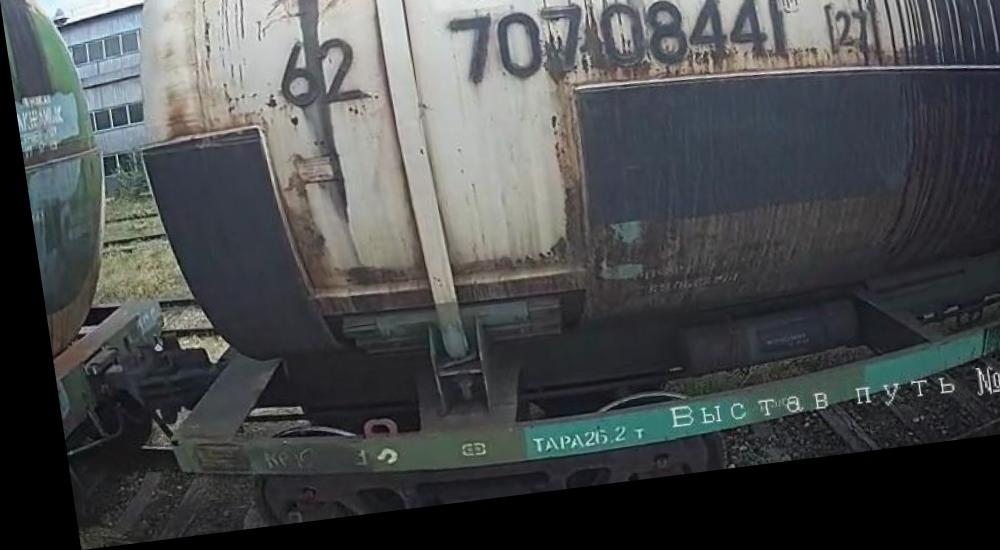Wagon-number: (439, 0, 788, 113)
